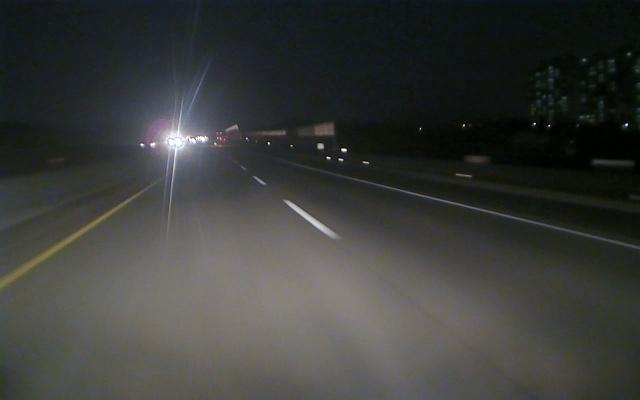lane: (332, 173, 639, 251), (1, 176, 169, 289), (252, 175, 345, 240)
